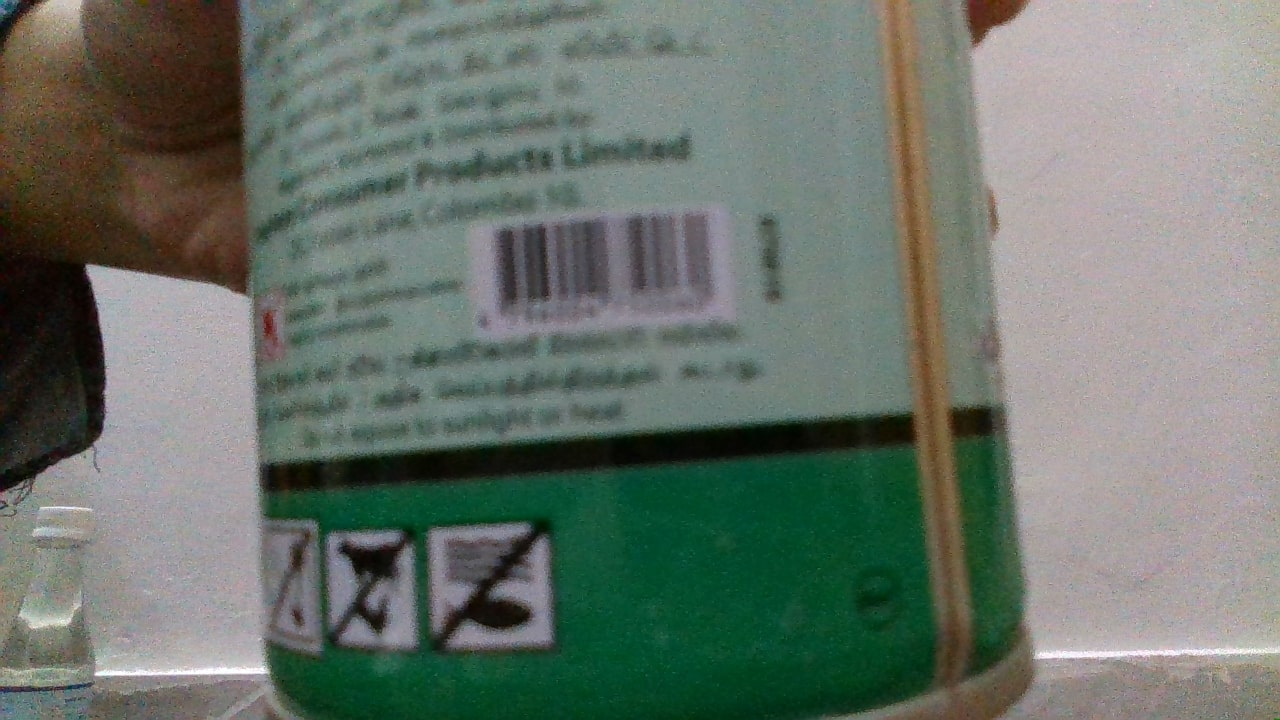Barcode: (489, 207, 721, 326)
